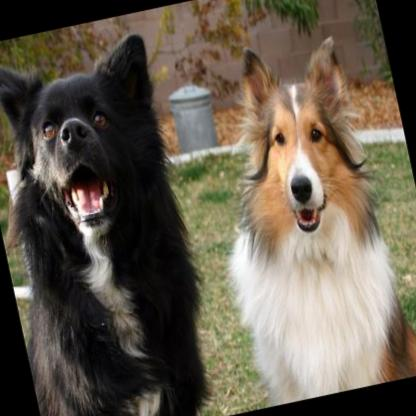schipperke: (0, 30, 221, 416)
